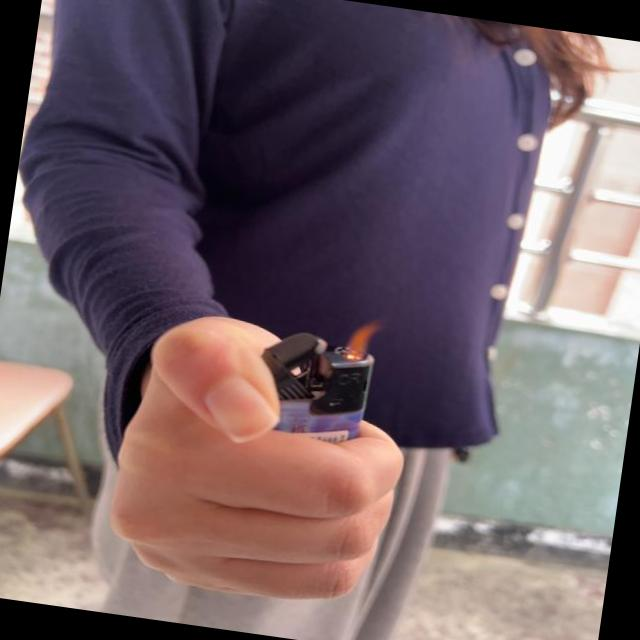Fire: (340, 312, 396, 364)
